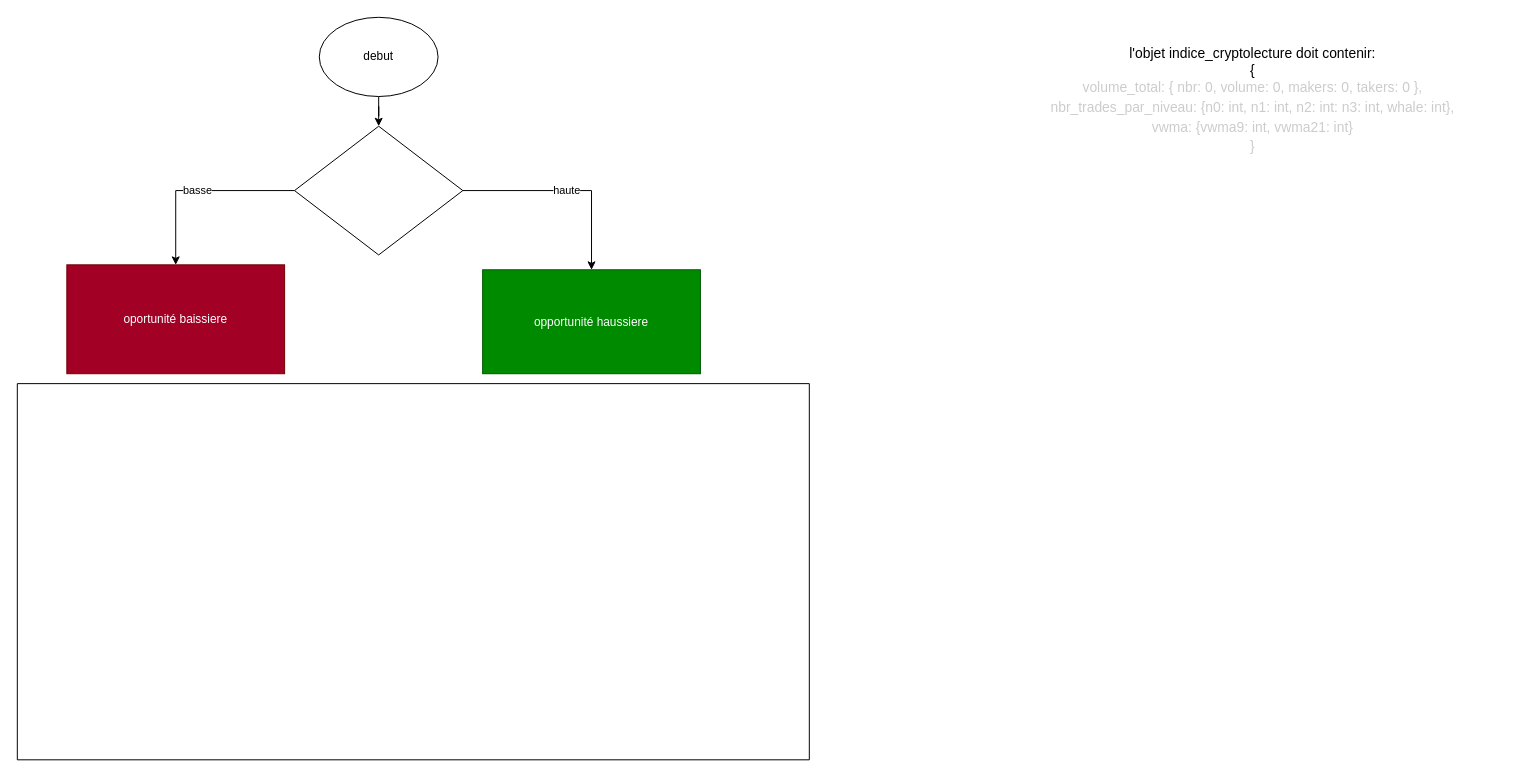
Image size: 1537x777. Some labels were removed from this diagram. The shapes that lost their labels are listed below. From the top down, each one's box as (x1, y1, x2, y2) in pixels, then its label:
(294, 125, 463, 255): contacte avec bande de Bollinger
(16, 383, 809, 760): importation du delta et du vwma
